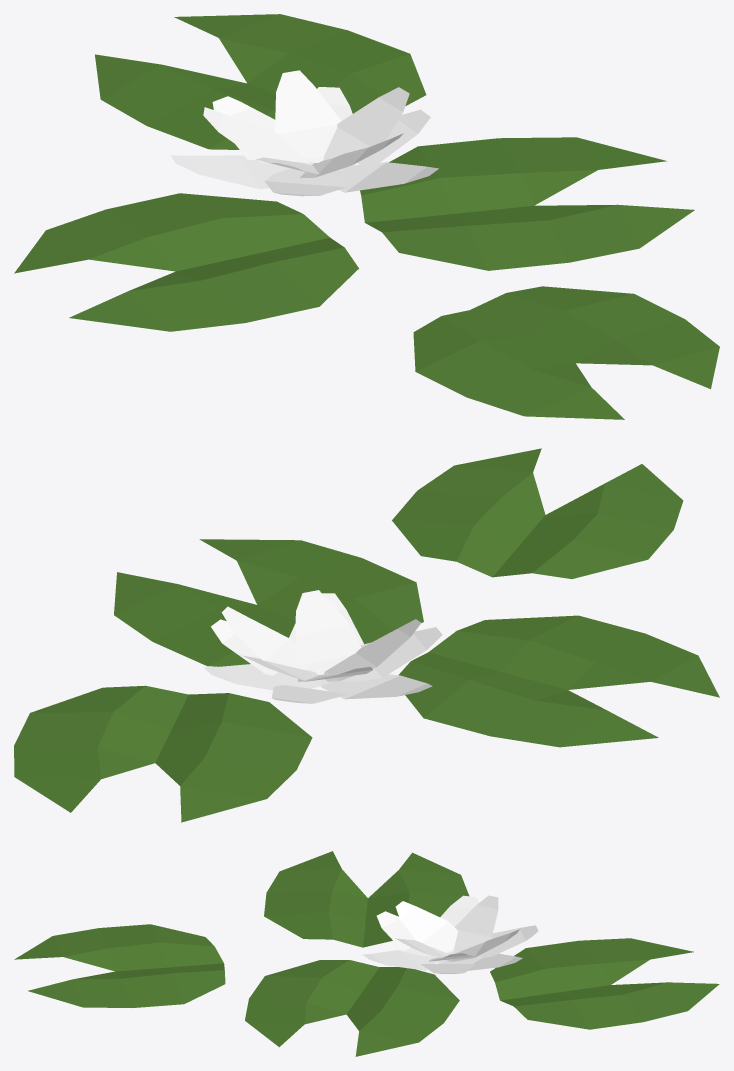
Rendered from Lotus.fbx.
The picture shows the model from 3 angles, top to bottom: view 1: azimuth 30°, elevation 25°; view 2: azimuth 150°, elevation 25°; view 3: azimuth 270°, elevation 25°; orthographic projection. The views are drawn at different scales.
Parts seen in each view (by area): view 1: Lotus; view 2: Lotus; view 3: Lotus.
Boxes of the visible parts, box(x1,y1,x2,y2) form: Lotus: box(14, 14, 719, 419); Lotus: box(14, 448, 719, 822); Lotus: box(14, 851, 719, 1056).
Size of the model in its own units: 188 by 20.08 by 279.
